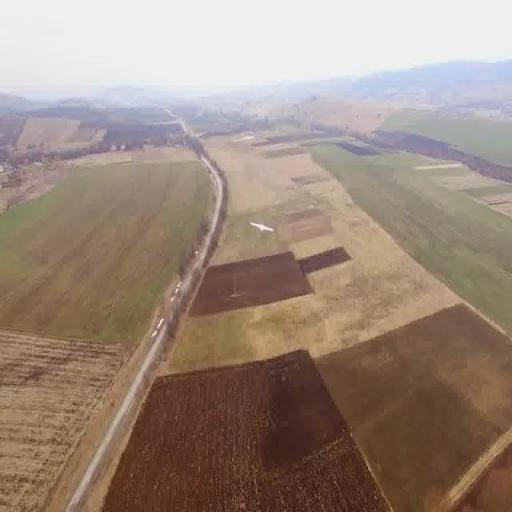uav: (247, 212, 274, 246)
